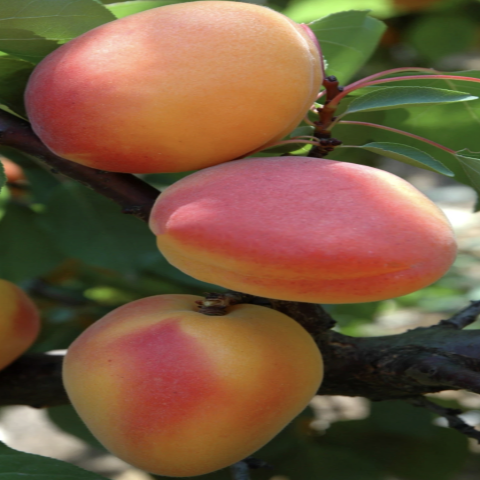mango: (6, 1, 343, 177), (41, 275, 344, 464), (145, 139, 459, 315)
